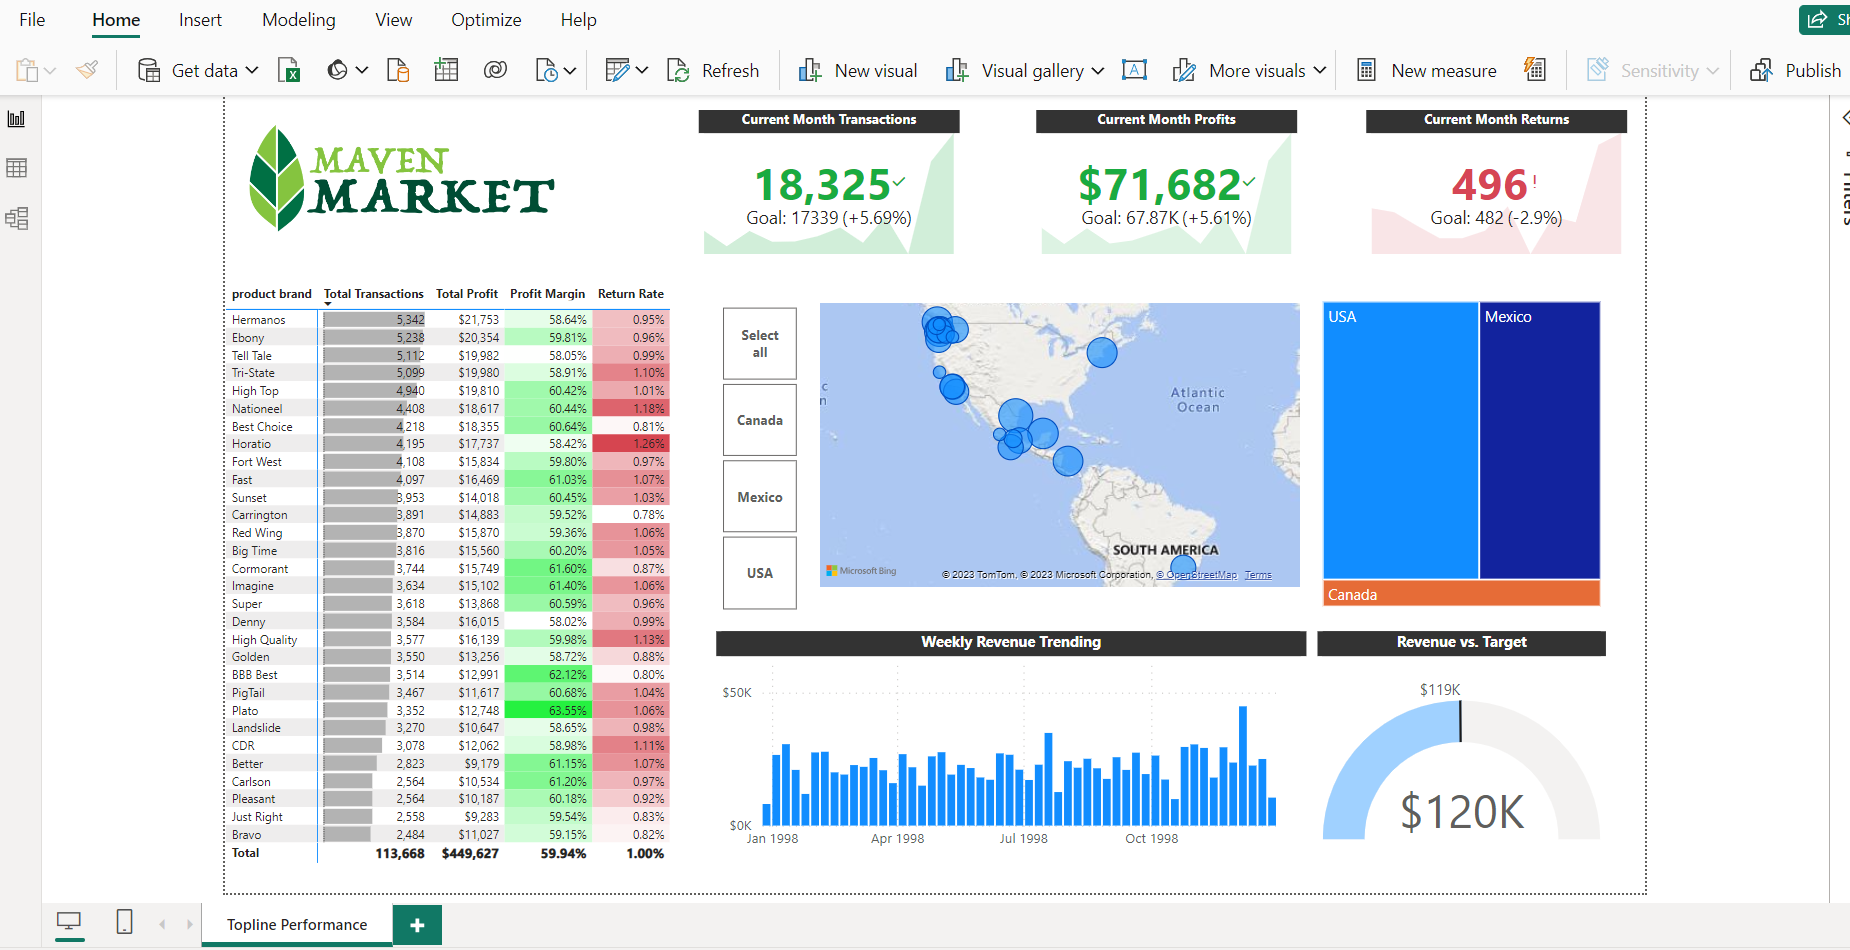

The page's visual inventory and layout, read from the dashboard file:
{"tool":"powerbi","page":{"name":"Topline Performance","canvas":[1280,720],"ordinal":0},"visuals":[{"type":"image","box":[8.8,13.8,298.8,122.5],"z":0},{"type":"pivotTable","fields":{"Rows":["Products.product_brand"],"Values":["Measure Table.Total Transactions","Measure Table.Total Profit","Measure Table.Profit Margin","Measure Table.Return Rate"]},"box":[0,168.8,407.5,551.2],"z":1000},{"type":"kpi","title":"Current Month Transactions","fields":{"Indicator":["Measure Table.Total Transactions"],"TrendLine":["Calendar.Start of Month"],"Goal":["Measure Table.Last Month Transactions"]},"box":[427.5,13.8,235,135],"z":2000},{"type":"kpi","title":"Current Month Profits","fields":{"TrendLine":["Calendar.Start of Month"],"Indicator":["Measure Table.Total Profit"],"Goal":["Measure Table.Last Month Profit"]},"box":[731.2,13.8,235,135],"z":3000},{"type":"kpi","title":"Current Month Returns","fields":{"TrendLine":["Calendar.Start of Month"],"Goal":["Measure Table.Last Month Returns"],"Indicator":["Measure Table.Total Returns"]},"box":[1028.8,13.8,235,135],"z":4000},{"type":"slicer","fields":{"Values":["Stores.store_country"]},"box":[427.8,189.5,106.3,276.3],"z":5000},{"type":"map","fields":{"Category":["Stores.store_city"],"Size":["Measure Table.Total Transactions"]},"box":[532,182,442,266],"z":6000},{"type":"treemap","fields":{"Group":["Stores.store_country","Stores.store_state","Stores.store_city"],"Values":["Measure Table.Total Transactions"]},"box":[985.3,180.9,260.4,284.8],"z":7000},{"type":"clusteredColumnChart","title":"Weekly Revenue Trending","fields":{"Y":["Measure Table.Total Revenue"],"Category":["Calendar.Start of Week"]},"box":[442.5,482.9,531.7,205.4],"z":8000},{"type":"gauge","title":"Revenue vs. Target","fields":{"Y":["Measure Table.Total Revenue"],"TargetValue":["Measure Table.Revenue Target"]},"box":[985,483,260,205],"z":8001}]}

Visuals, with their boxes on the page's 1280x720 design canvas (x1, y1, x2, y2). These are canvas units, not pixel positions in the 1850x950 screenshot, which may show the page scaled, cropped or inside an application window:
image: box(9, 14, 308, 136)
pivotTable - Products.product_brand x Measure Table.Total Transactions: box(0, 169, 408, 720)
"Current Month Transactions" kpi: box(428, 14, 662, 149)
"Current Month Profits" kpi: box(731, 14, 966, 149)
"Current Month Returns" kpi: box(1029, 14, 1264, 149)
slicer - Stores.store_country: box(428, 190, 534, 466)
map - Stores.store_city x Measure Table.Total Transactions: box(532, 182, 974, 448)
treemap - Stores.store_country x Stores.store_state: box(985, 181, 1246, 466)
"Weekly Revenue Trending" clusteredColumnChart: box(442, 483, 974, 688)
"Revenue vs. Target" gauge: box(985, 483, 1245, 688)
